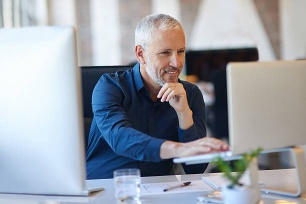male: (135, 15, 194, 92)
